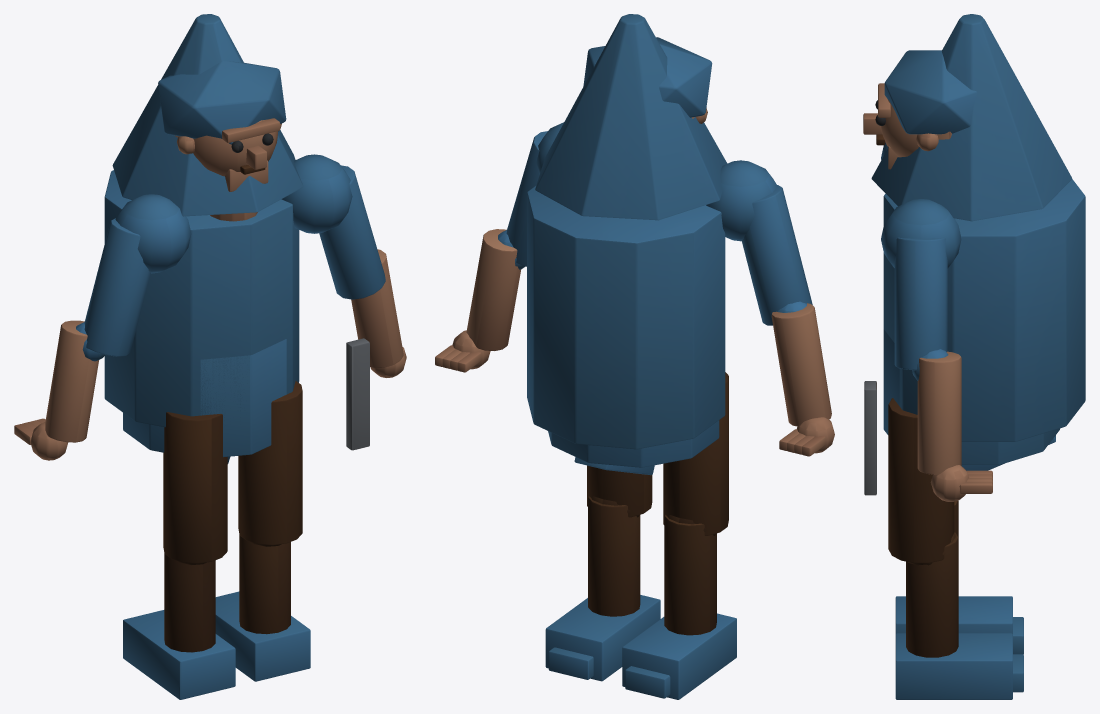
Rendered from unit_freetown_jump_imp.fbx.
3 renders of one model, left to right at view 1: azimuth 30°, elevation 25°; view 2: azimuth 150°, elevation 25°; view 3: azimuth 270°, elevation 25°, orthographic.
Visible parts, largest first — view 1: unit_freetown_jump_imp; view 2: unit_freetown_jump_imp; view 3: unit_freetown_jump_imp.
Boxes of the visible parts, bbox=[...] form: unit_freetown_jump_imp: bbox=[14, 14, 406, 699]; unit_freetown_jump_imp: bbox=[435, 14, 834, 699]; unit_freetown_jump_imp: bbox=[863, 14, 1085, 699].
Size of the model in its own units: 0.6871 by 1.13 by 0.3509.
